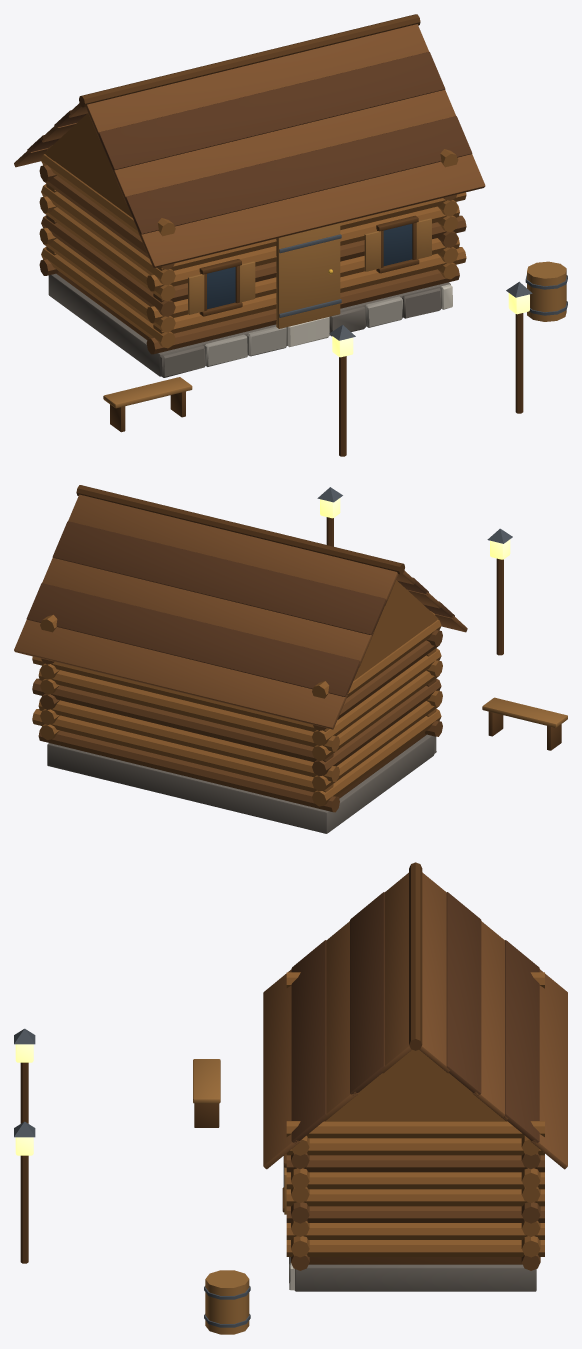
The model's file is budynek_glowny_poz06.glb.
3 renders of one model, top to bottom at view 1: azimuth 30°, elevation 25°; view 2: azimuth 150°, elevation 25°; view 3: azimuth 270°, elevation 25°, orthographic. The views are drawn at different scales.
Visible parts, largest first — view 1: budynek_glowny_poz06; view 2: budynek_glowny_poz06; view 3: budynek_glowny_poz06.
Boxes of the visible parts, x1=… form: budynek_glowny_poz06: x1=14, y1=14, x2=567, y2=456; budynek_glowny_poz06: x1=14, y1=485, x2=567, y2=833; budynek_glowny_poz06: x1=14, y1=862, x2=567, y2=1334.
Size of the model in its own units: 8.42 by 4.26 by 8.06.
